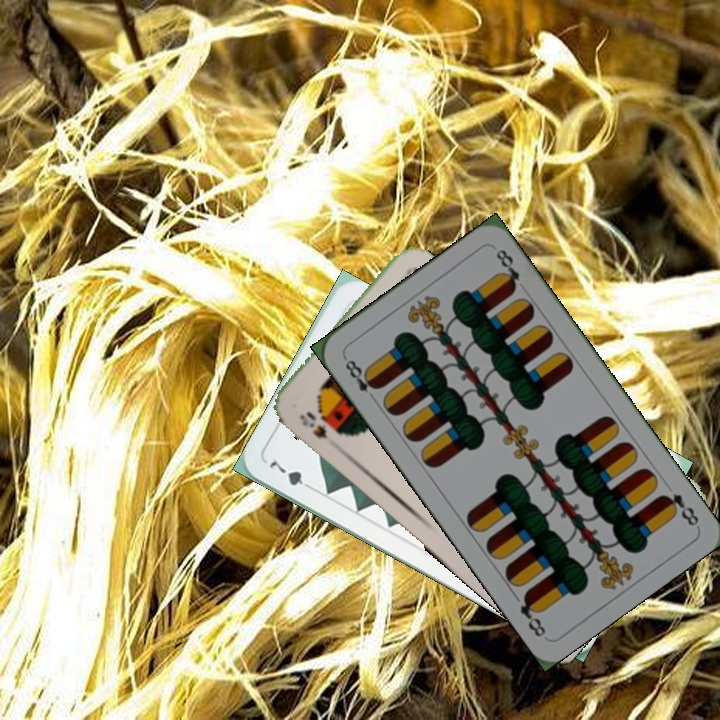E8: (340, 353, 382, 404), (656, 489, 702, 529)
G7: (265, 456, 318, 494)
SO: (295, 407, 344, 442)
